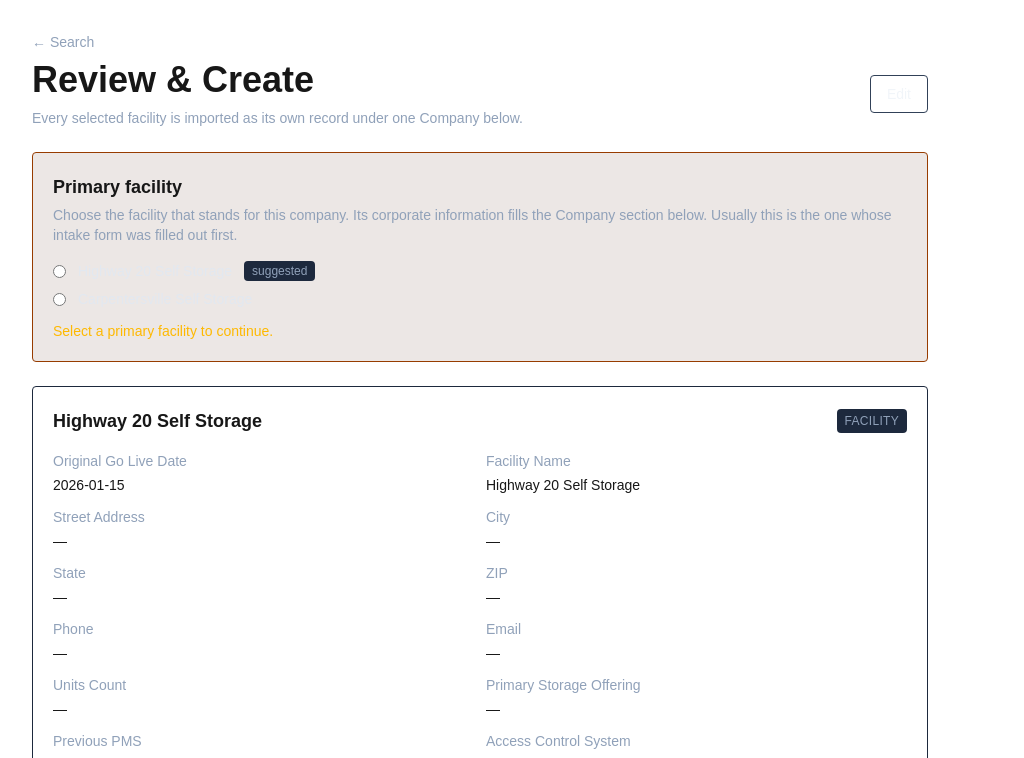
ClientsNewPage › shows Company as its own section, separate from every selected run's own Facility section
The width and height of the screenshot is (1024, 758).
Click the radio button labelled "Highway 20 Self Storage suggested" at [60, 271], box [53, 264, 66, 278]
(page scrolled)
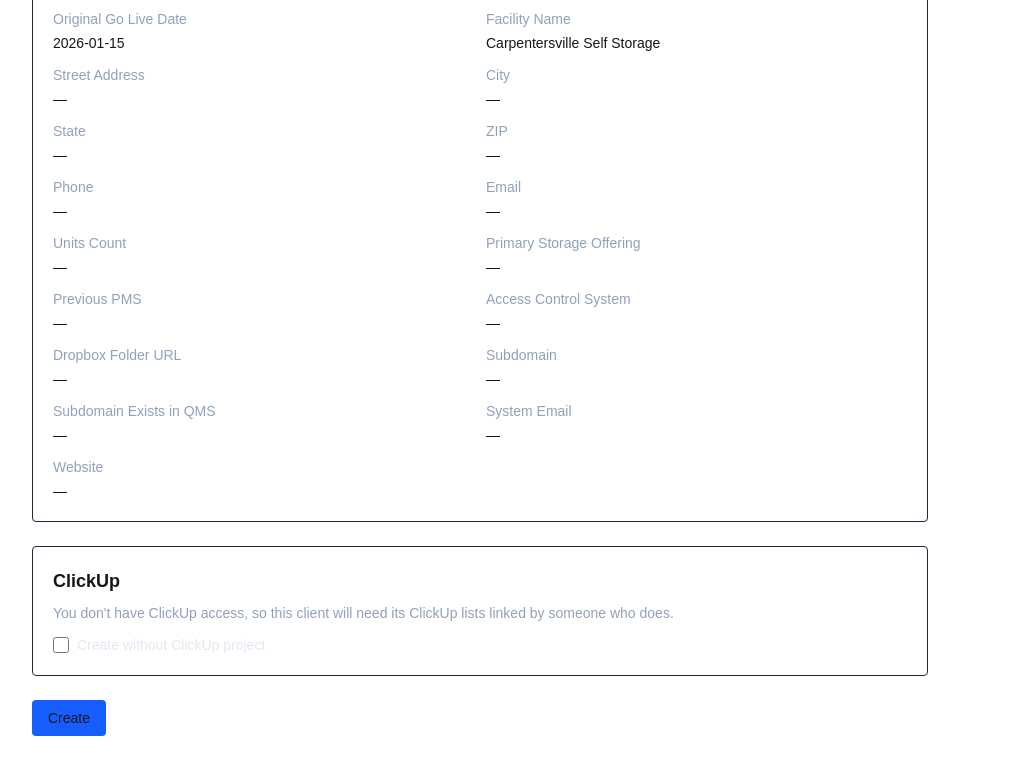
Now the button "Create" is enabled, box [32, 700, 106, 736]
